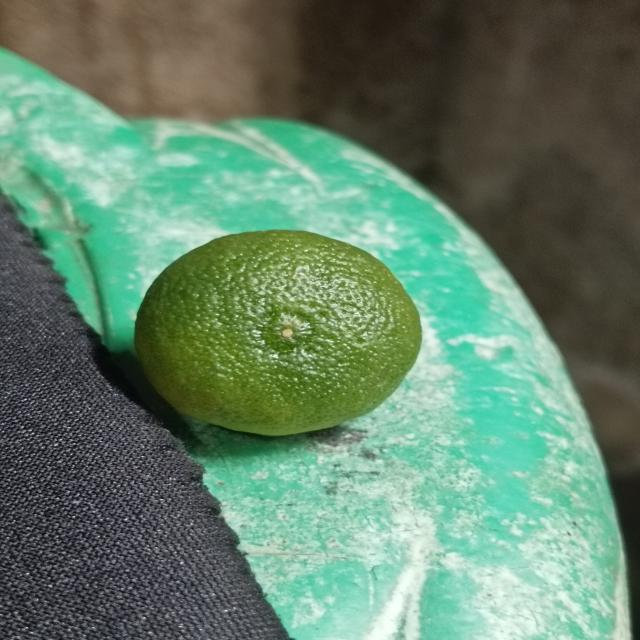heathy: (132, 227, 426, 432)
